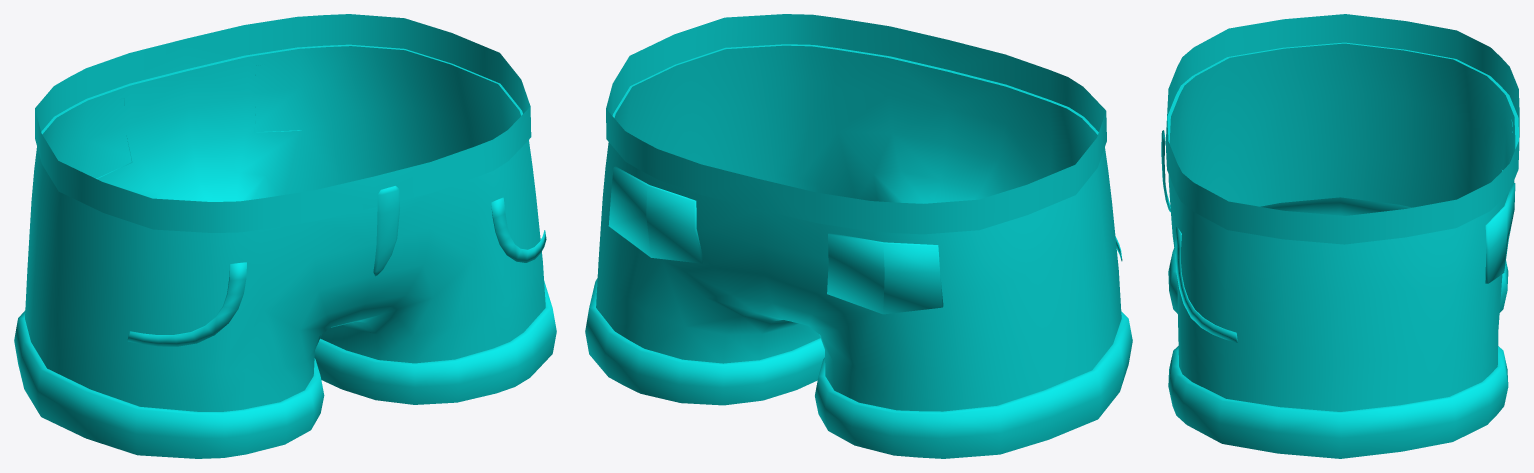
3 renders of one model, left to right at view 1: azimuth 30°, elevation 25°; view 2: azimuth 150°, elevation 25°; view 3: azimuth 270°, elevation 25°, orthographic. The views are drawn at different scales.
Parts seen in each view (by area): view 1: P_B; view 2: P_B; view 3: P_B.
Boxes of the visible parts, box(x1,y1,x2,y2) form: P_B: box(14, 14, 556, 458); P_B: box(585, 14, 1132, 458); P_B: box(1161, 14, 1519, 458).
Bounding box in the file's own units: 115 × 56.34 × 78.27.
